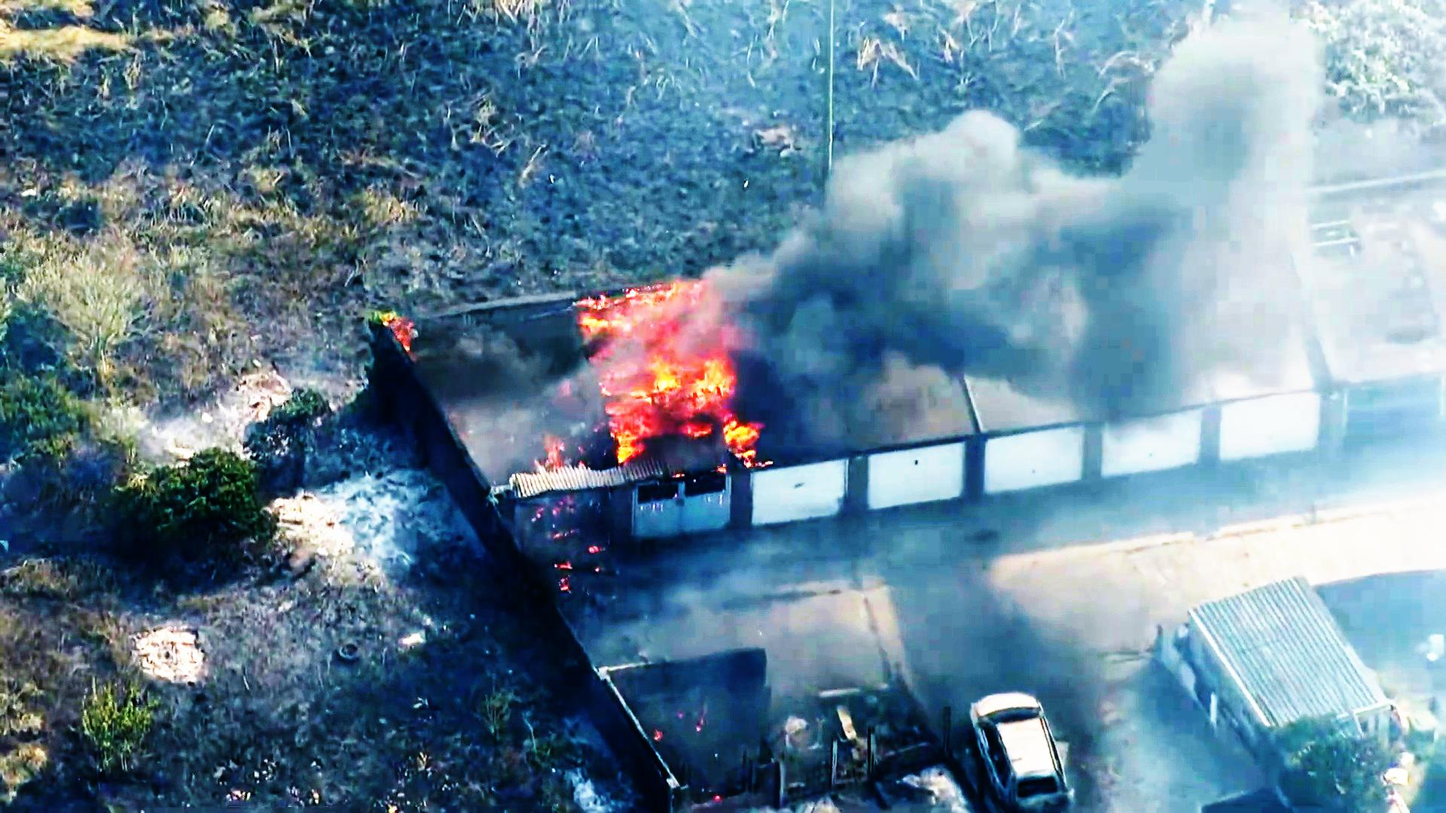fire: (588, 296, 761, 466)
smoke: (1035, 8, 1324, 378), (784, 128, 1059, 381)
